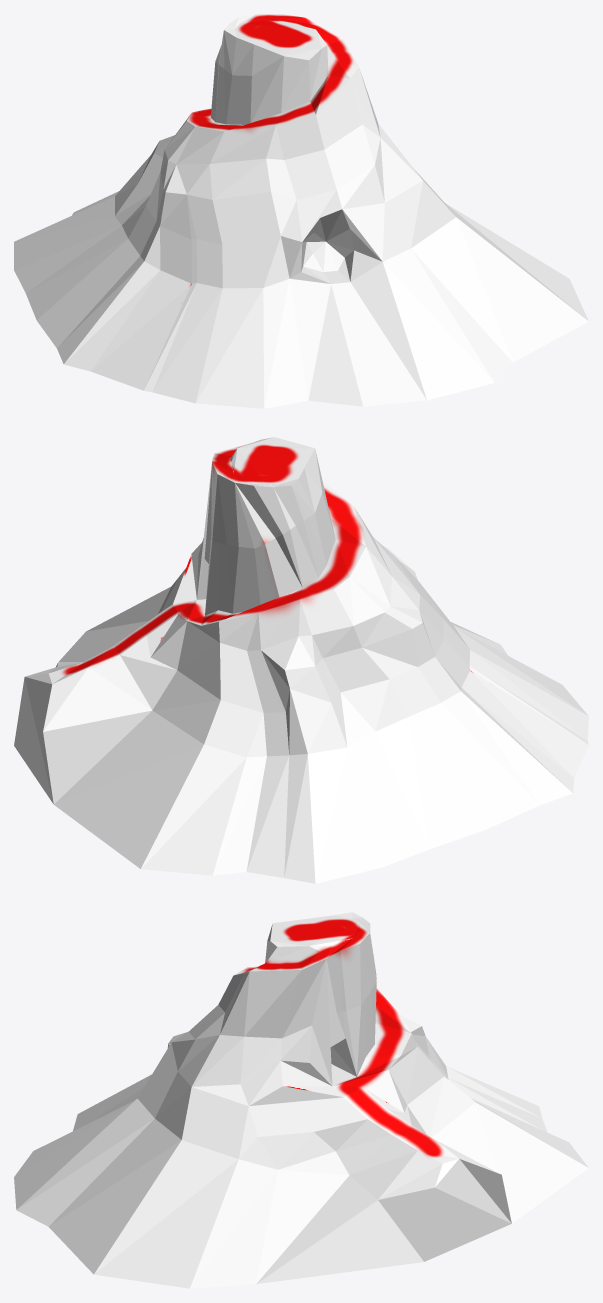
Rendered from goat_land.glb.
3 views of the same model, one above another, from view 1: azimuth 30°, elevation 25°; view 2: azimuth 150°, elevation 25°; view 3: azimuth 270°, elevation 25° (orthographic). The views are drawn at different scales.
Visible parts, largest first — view 1: Plane.002; view 2: Plane.002; view 3: Plane.002.
Part boxes in pixels (box(x1,y1,x2,y2)): Plane.002: box(14, 14, 588, 408); Plane.002: box(14, 437, 588, 883); Plane.002: box(14, 912, 588, 1288).
Size of the model in its own units: 83.8 by 43.43 by 90.45.
Materials: 1 (1 with a texture image).
